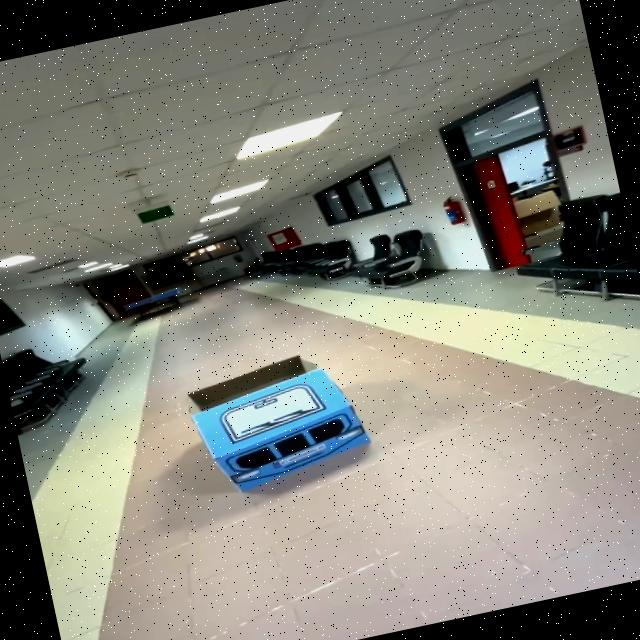blue_car: (132, 320, 437, 545)
